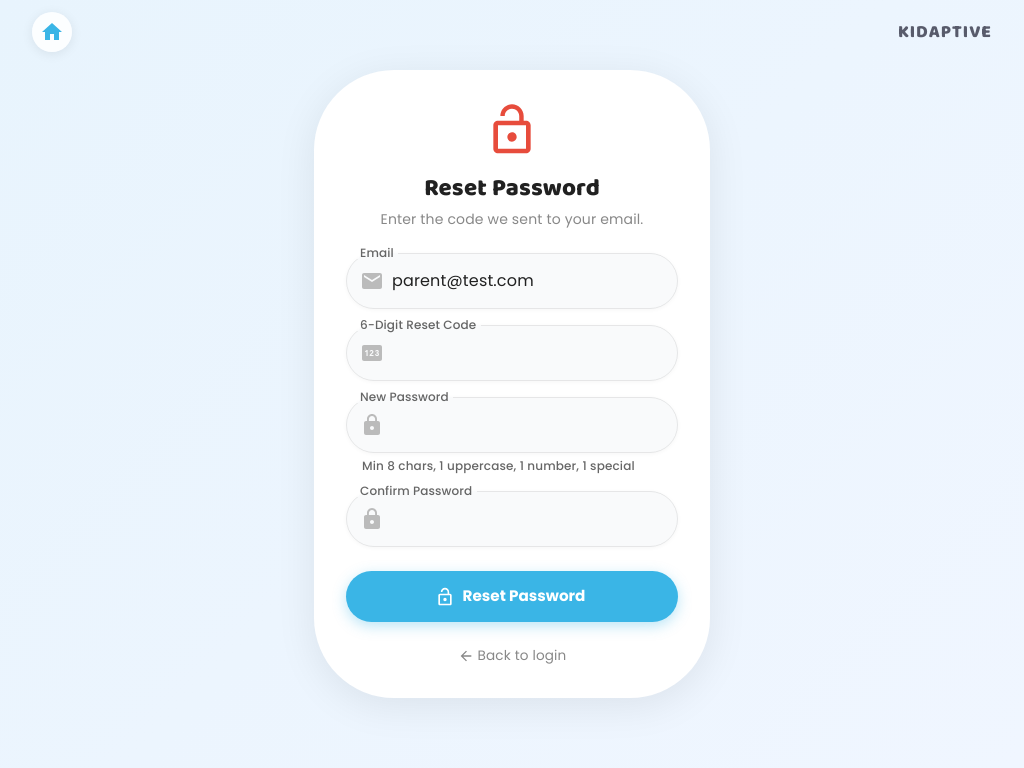
it: ResetPasswordPage › clears error when user types again after failure
The image size is (1024, 768).
Type "999999" into the field labelled "6-Digit Reset Code" at x=535, y=353, box left=392, top=325, right=678, bottom=381
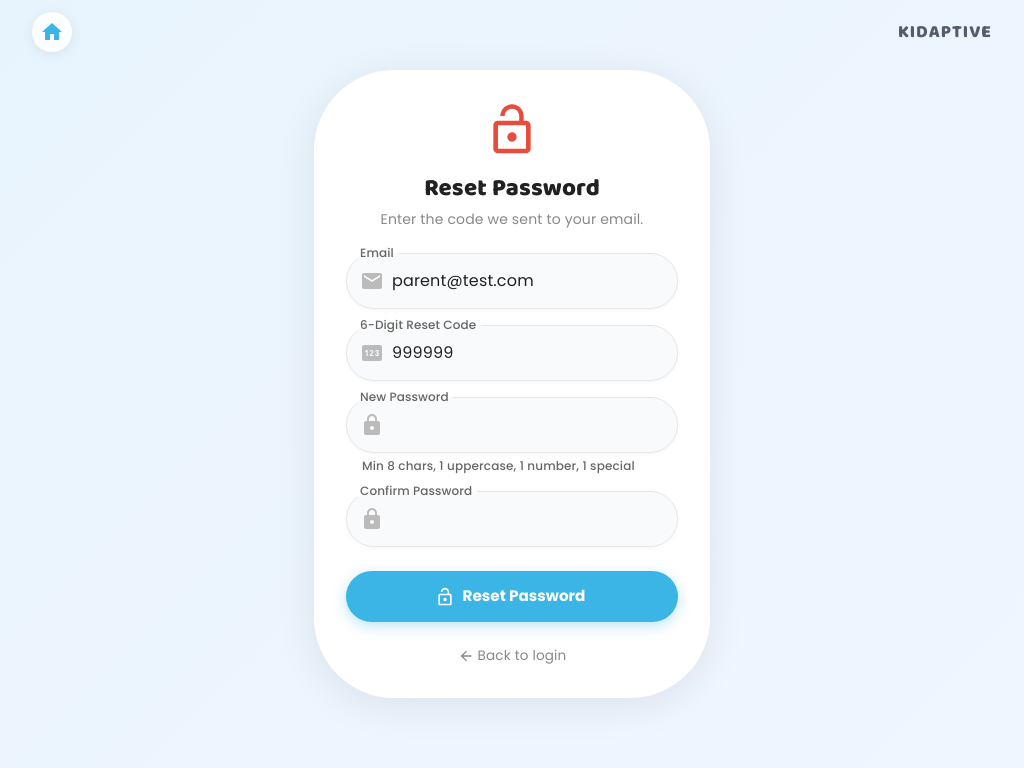
Type "NewPass123!" into the password field labelled "New Password" at x=535, y=425, box left=392, top=397, right=678, bottom=453
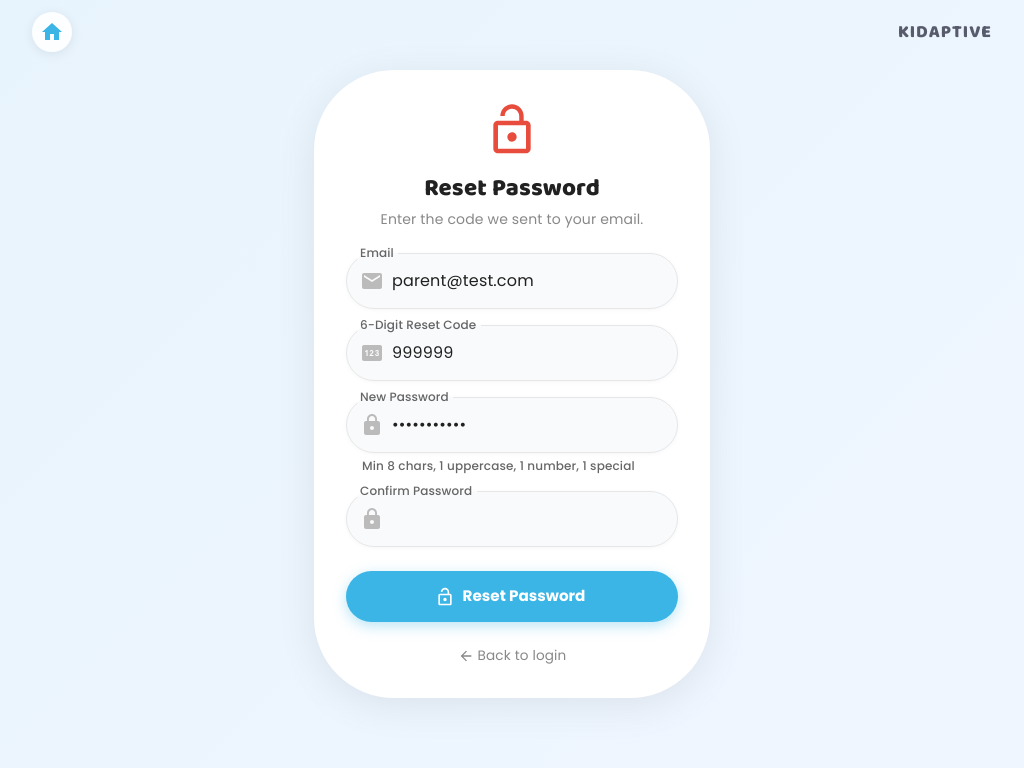
Type "NewPass123!" into the password field labelled "Confirm Password" at x=535, y=520, box left=392, top=492, right=678, bottom=548
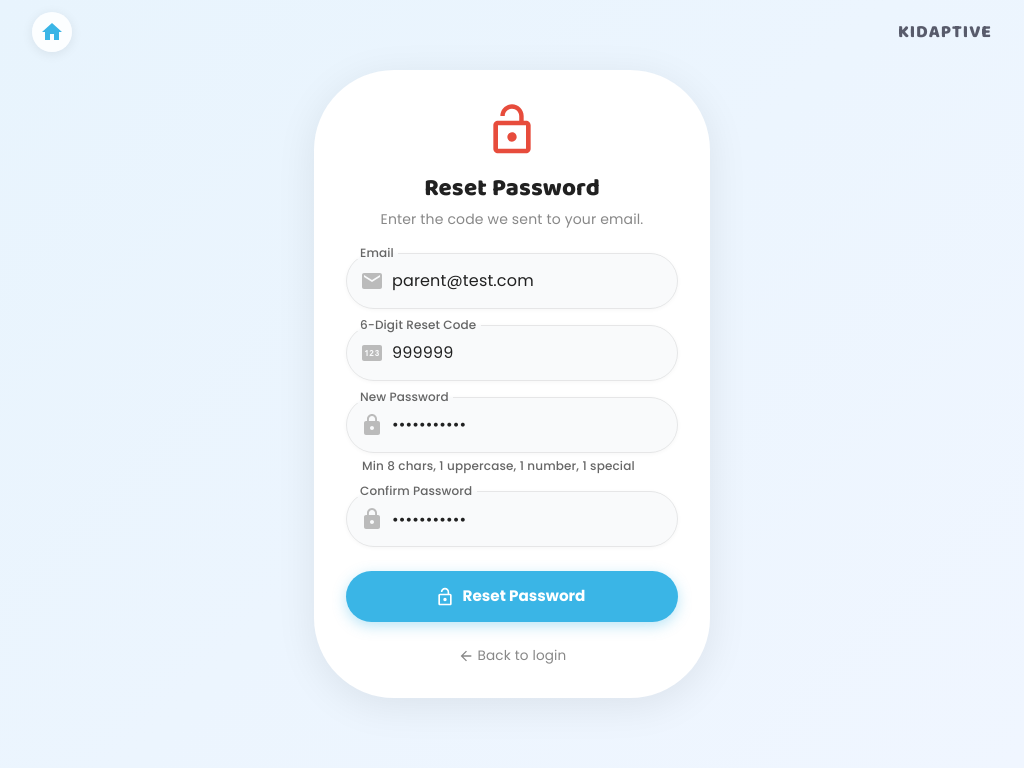
Click the button "Reset Password" at x=512, y=597, box left=346, top=572, right=678, bottom=622
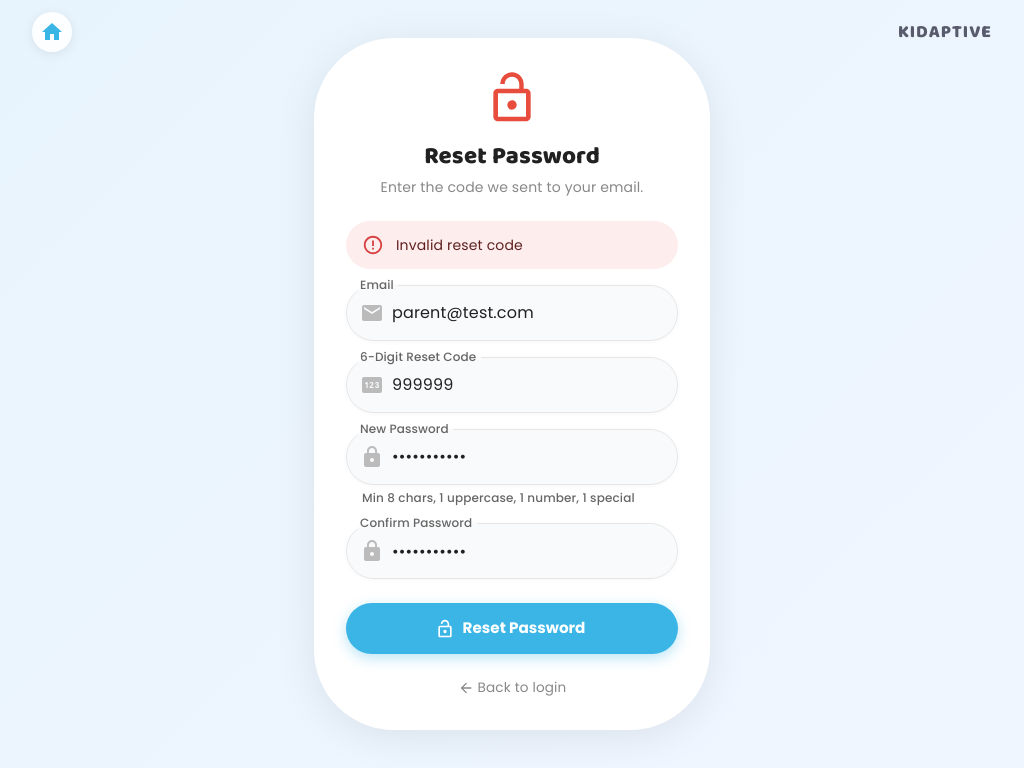
Check: the text "Invalid reset code" is shown, box left=396, top=235, right=523, bottom=255
Replace the text in the field labelled "6-Digit Reset Code" with "1" at x=535, y=385, box left=392, top=357, right=678, bottom=413
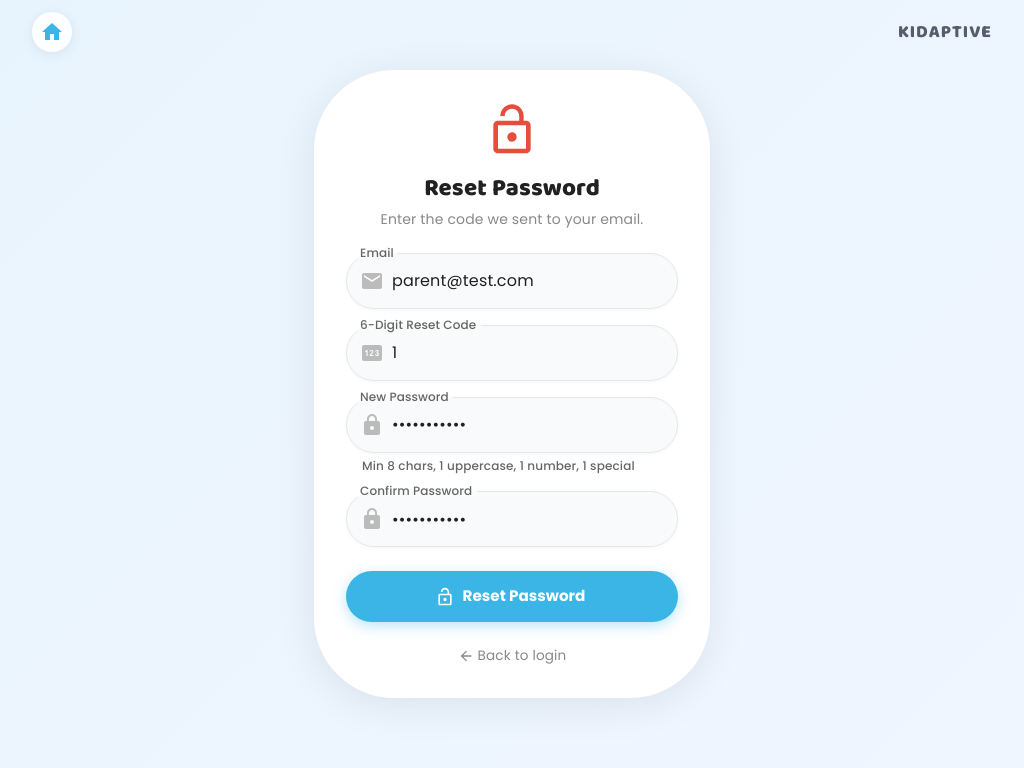
Check: the text "Invalid reset code" is gone
